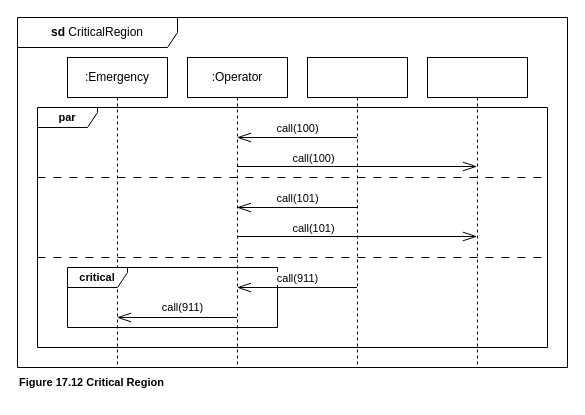
The diagram is 585 pixels wide and 415 high, and some of its shapes have lost their labels. The box of each missing label's shape, as (x1, y1, x2, y2) in pixels:
:Callee: (426, 56, 528, 368)
:Caller: (306, 56, 408, 368)
